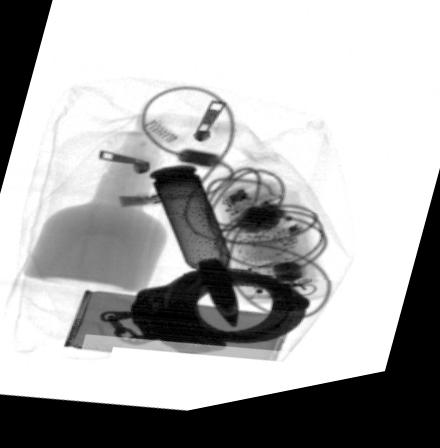Bullet: (150, 173, 240, 338)
HandCuffs: (98, 277, 312, 364)
